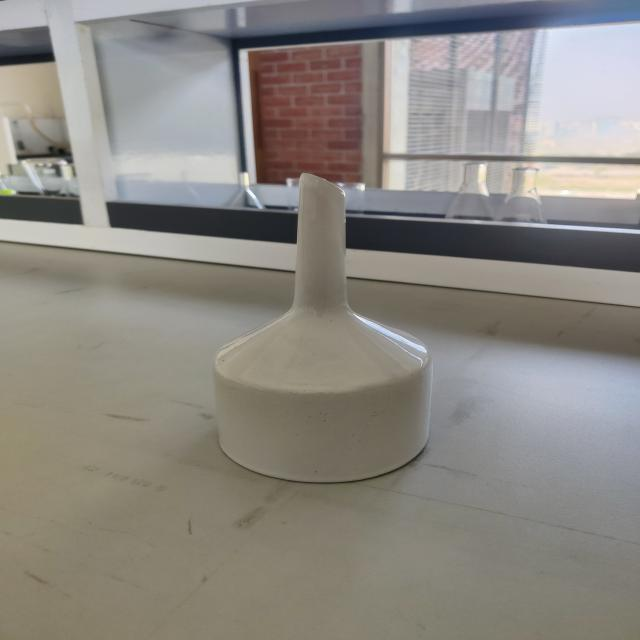Buchner_Funnel: (180, 160, 483, 503)
